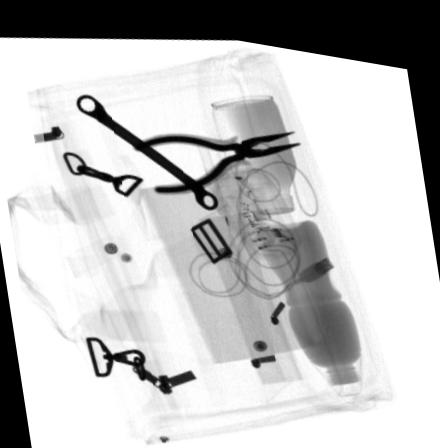Pliers: (130, 120, 303, 187)
Wrench: (75, 90, 220, 203)
